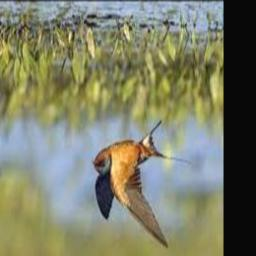Swallow: (93, 120, 191, 248)
